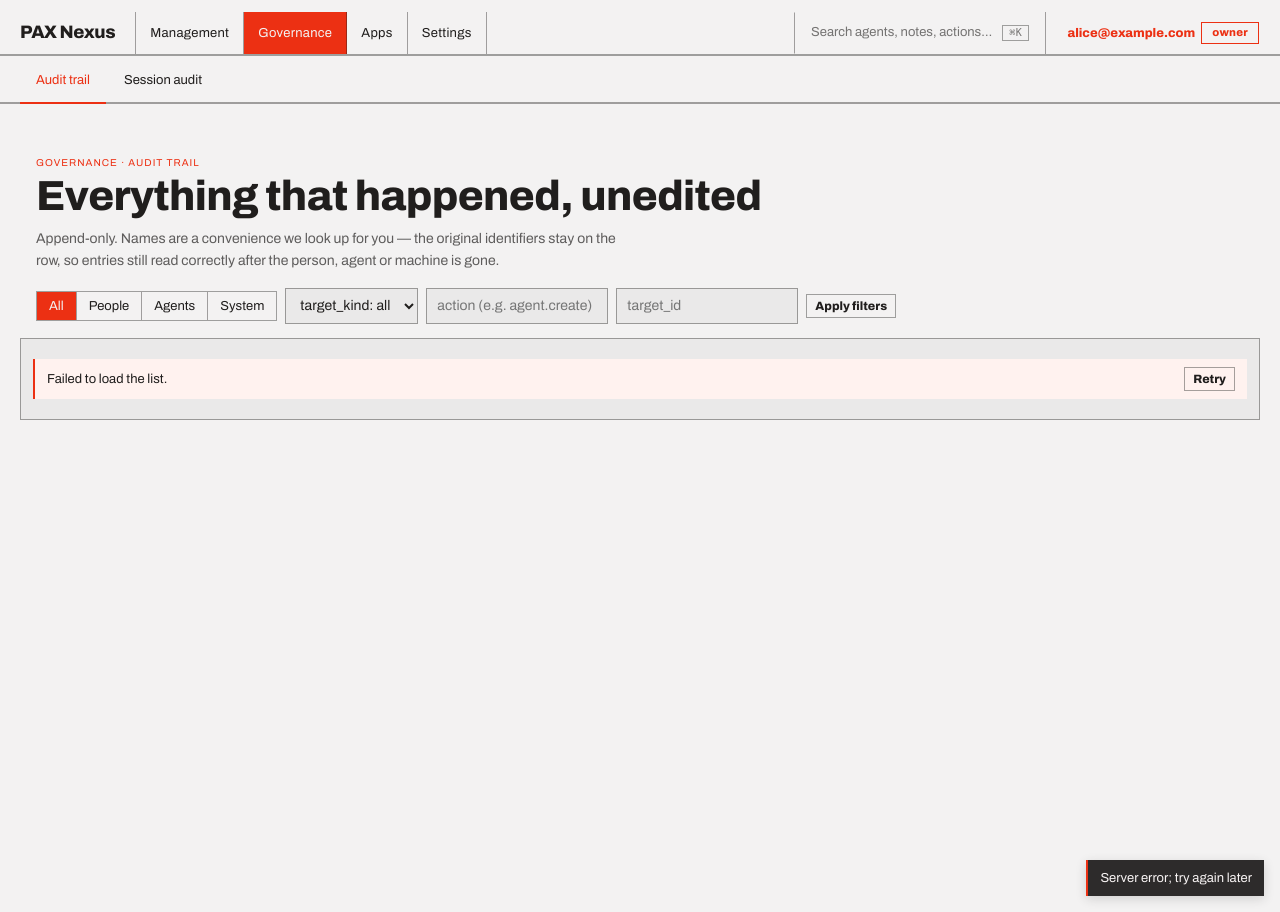
Test: AdminAuditPage: list failure renders a retryable error › failed list load shows Retry; clicking it re-issues the list request
Expected: the text "Failed to load the list." is shown, top-left (47, 369), bottom-right (167, 389)
Step 1. Click the button "Retry" → (1210, 379), box top-left (1184, 367), bottom-right (1235, 391)
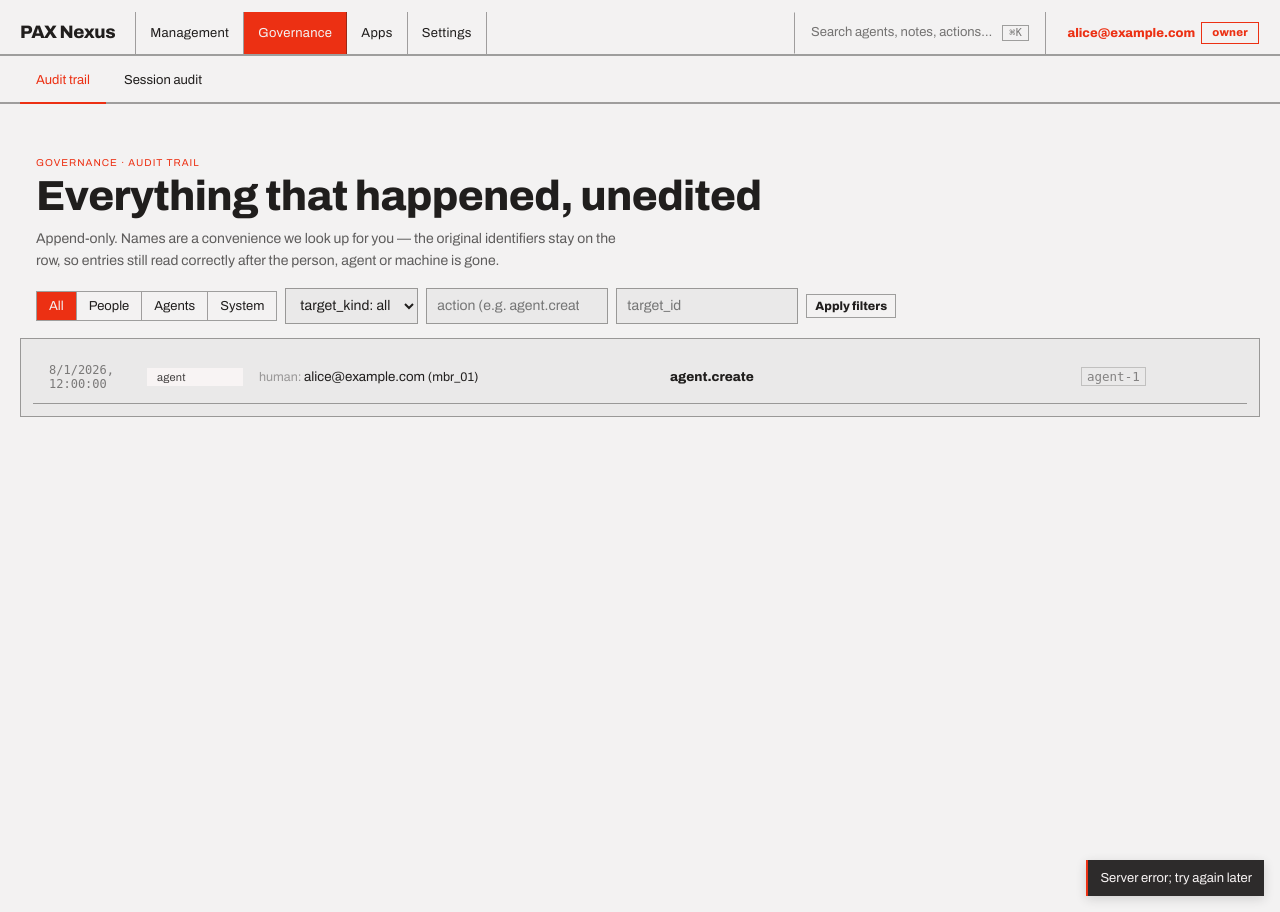
Expected: the text "agent.create" is shown, top-left (670, 370), bottom-right (754, 384)
